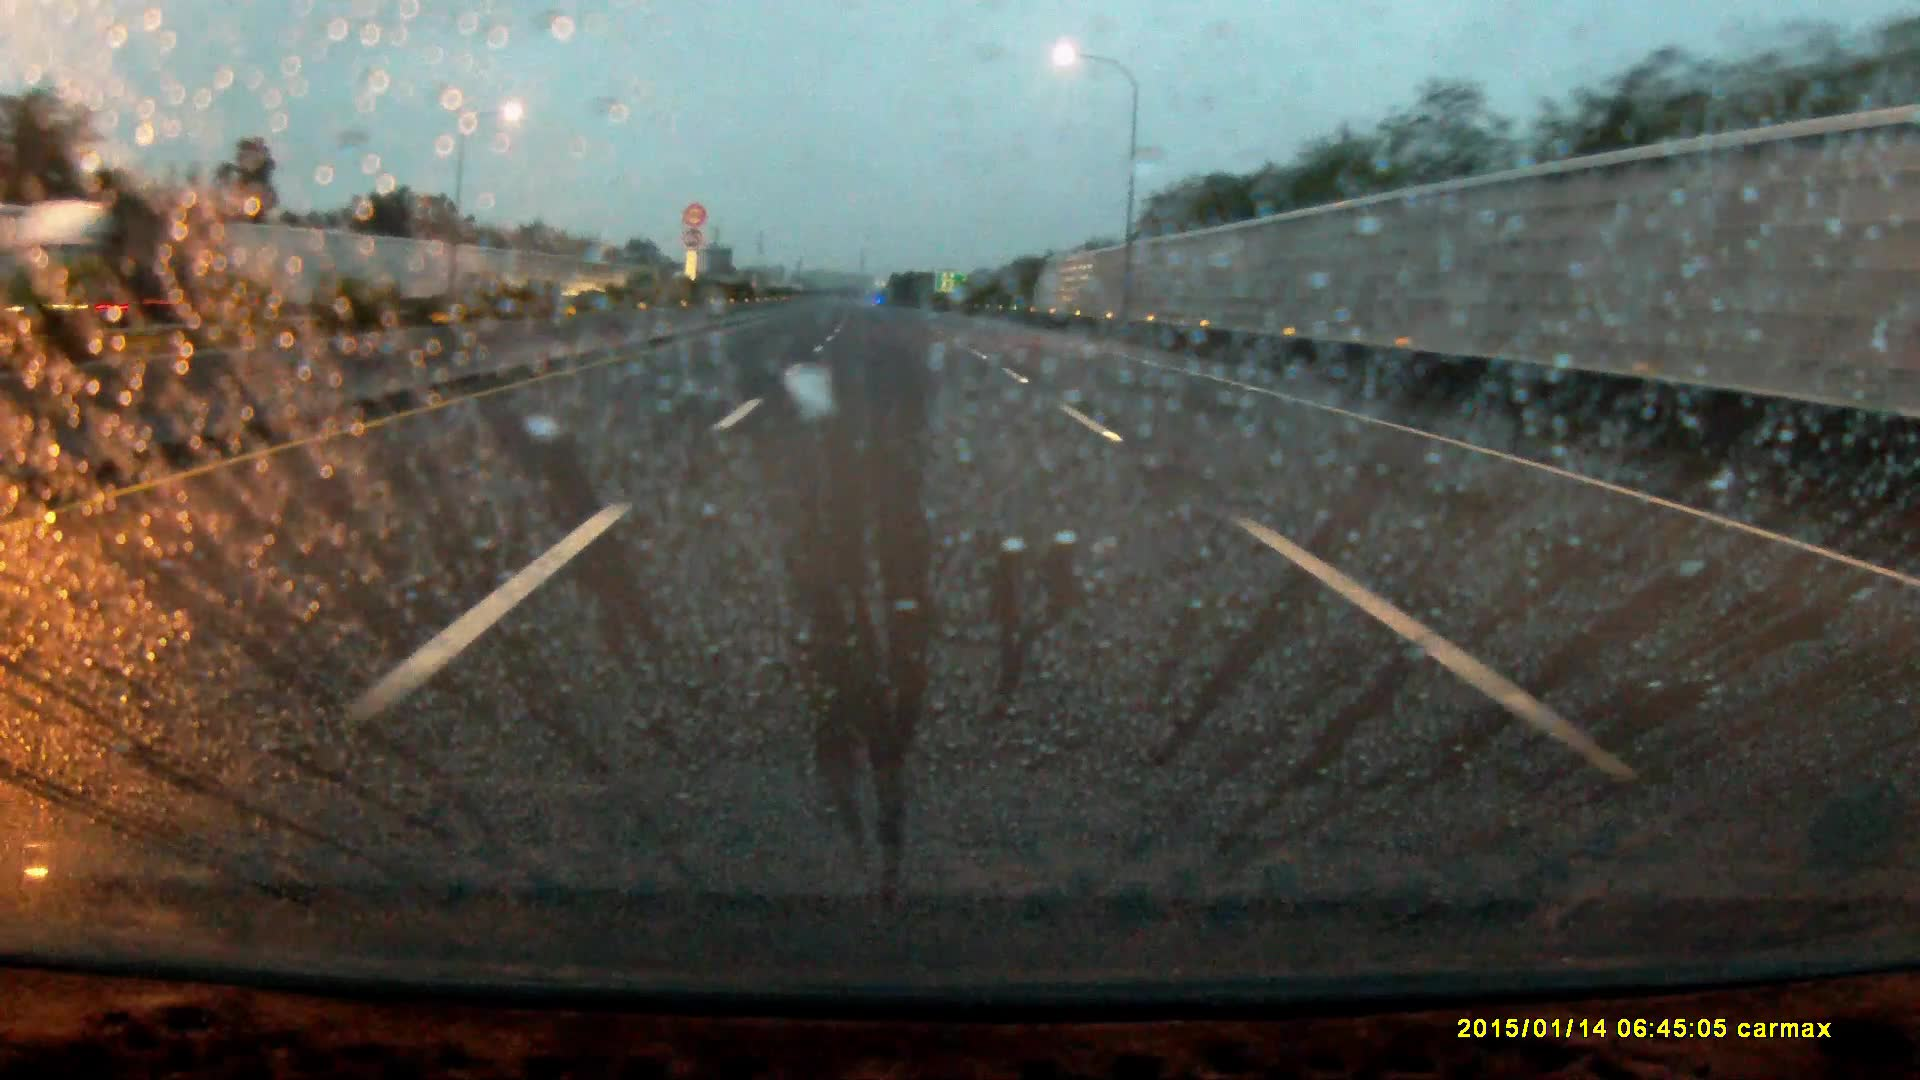vehicle: (8, 199, 199, 338)
